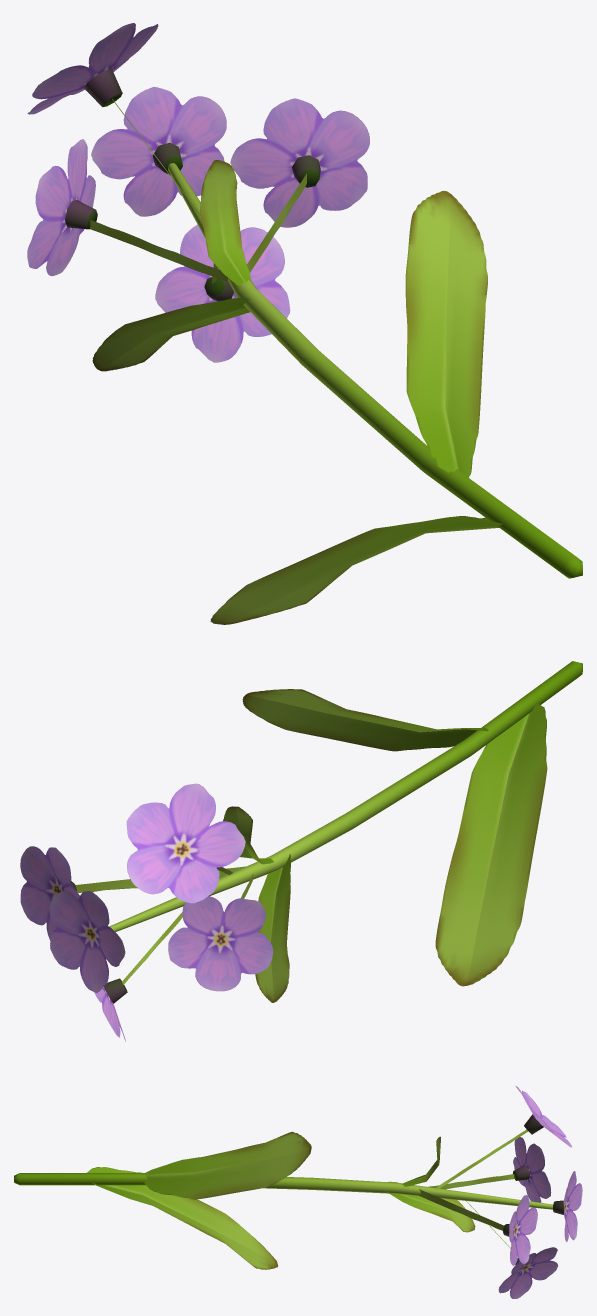
File: SM_Forgetmenot_lilac_small.fbx
3 views of the same model, one above another, from view 1: azimuth 30°, elevation 25°; view 2: azimuth 150°, elevation 25°; view 3: azimuth 270°, elevation 25° (orthographic). The views are drawn at different scales.
Parts seen in each view (by area): view 1: Forgetmenot_lilac_small; view 2: Forgetmenot_lilac_small; view 3: Forgetmenot_lilac_small.
Boxes of the visible parts, x1,y1,x2,y2 form: Forgetmenot_lilac_small: (27, 23, 582, 624); Forgetmenot_lilac_small: (20, 661, 582, 1041); Forgetmenot_lilac_small: (14, 1085, 582, 1298).
Size of the model in its own units: 29.11 by 25.97 by 62.01.
